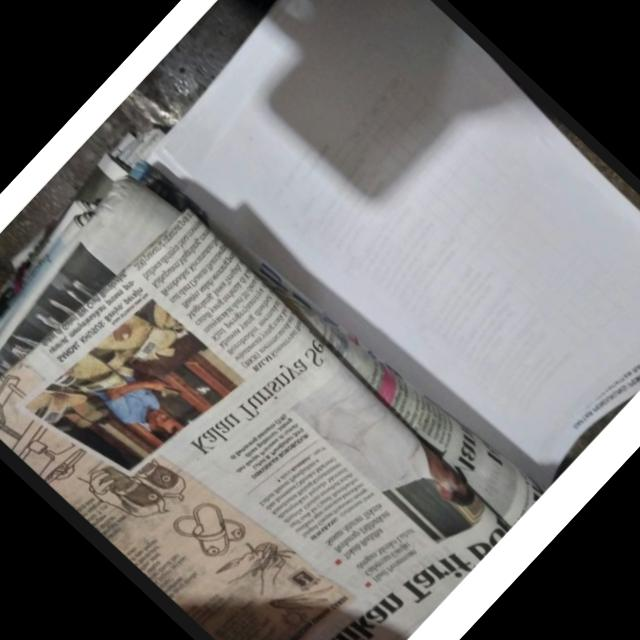KertasBekas: (146, 0, 640, 506)
Koran: (0, 116, 541, 640)
